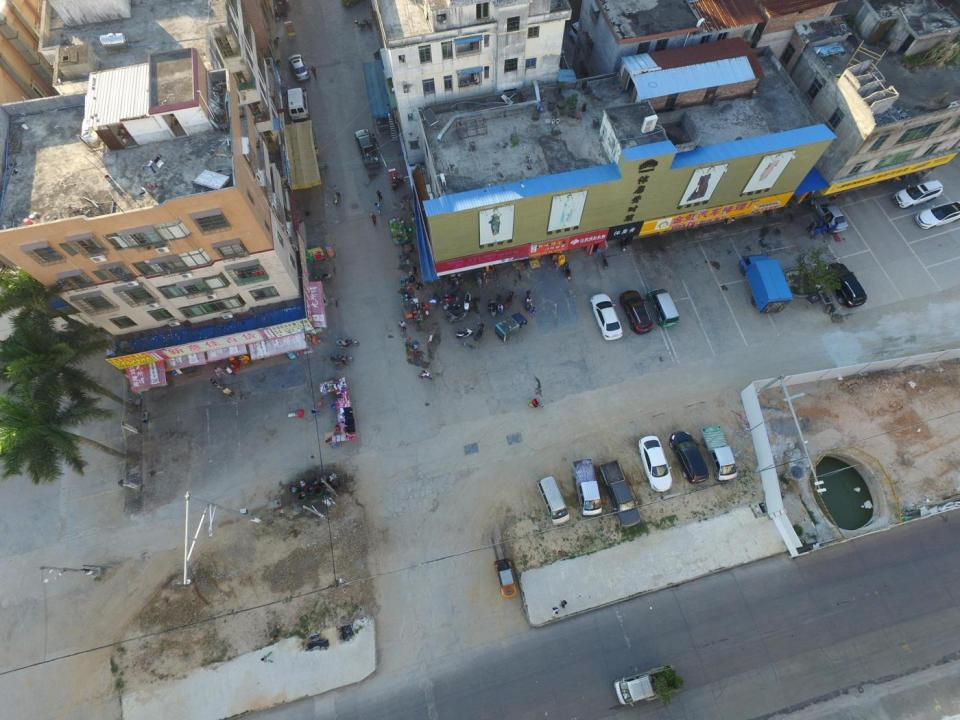car: (669, 430, 710, 484), (638, 435, 672, 492), (826, 262, 867, 308), (619, 290, 654, 335), (590, 293, 624, 339), (893, 179, 944, 209), (810, 197, 848, 233), (914, 201, 960, 230), (354, 129, 378, 168), (286, 54, 311, 82)
truck: (738, 253, 794, 313), (613, 663, 685, 707), (598, 459, 641, 528), (701, 425, 738, 482), (572, 458, 603, 517)
van: (536, 475, 570, 525), (646, 288, 680, 328), (286, 87, 309, 121)
